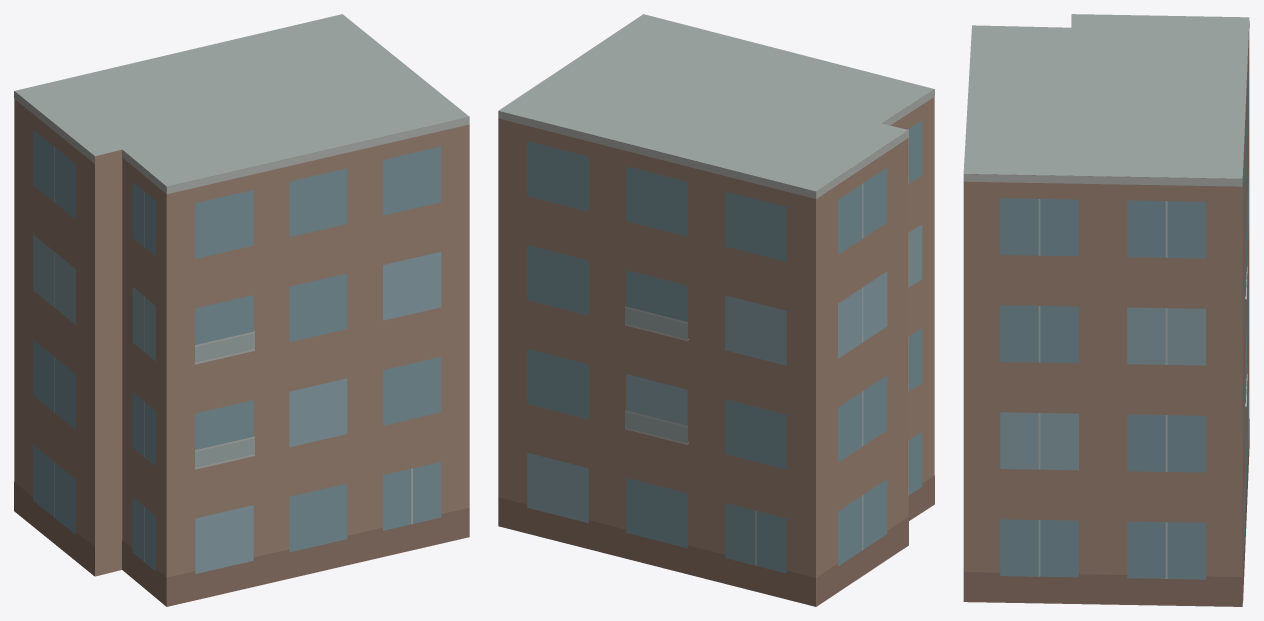
File: survey-upis-32662387.glb
3 views of the same model, side by side, from view 1: azimuth 30°, elevation 25°; view 2: azimuth 150°, elevation 25°; view 3: azimuth 270°, elevation 25° (orthographic). The views are drawn at different scales.
Visible parts, largest first — view 1: survey-upis-32662387.tmp; view 2: survey-upis-32662387.tmp; view 3: survey-upis-32662387.tmp.
Boxes of the visible parts, x1,y1,x2,y2 form: survey-upis-32662387.tmp: [14, 14, 469, 606]; survey-upis-32662387.tmp: [498, 14, 934, 606]; survey-upis-32662387.tmp: [963, 14, 1249, 606].
Bounding box in the file's own units: 10.94 × 13.25 × 8.03.
